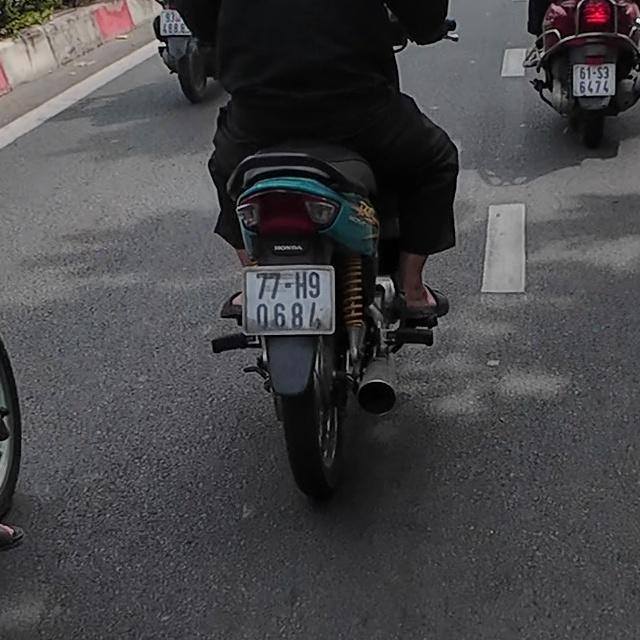motorcycle: (221, 145, 404, 491), (524, 0, 640, 145)
plate: (240, 259, 338, 334), (569, 56, 618, 102)
